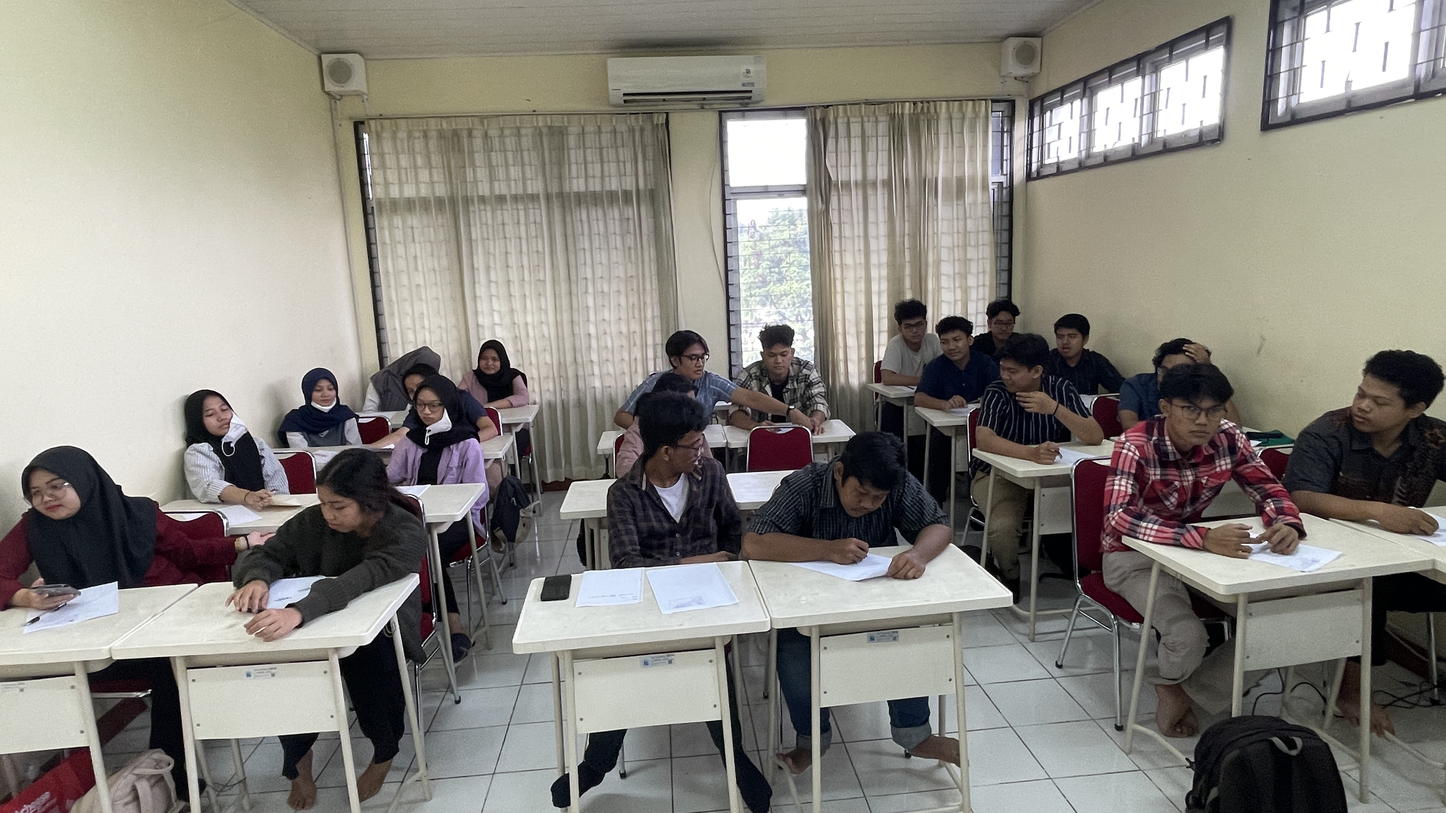cheating: (1349, 350, 1442, 443), (639, 392, 716, 482), (996, 336, 1052, 400), (661, 330, 715, 382)
phone: (539, 574, 572, 609), (24, 584, 85, 600)
